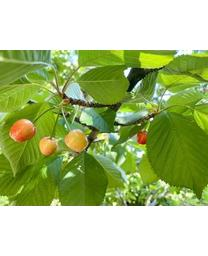cherry: (64, 129, 89, 153), (10, 119, 35, 143), (38, 134, 58, 158), (137, 130, 148, 144)
